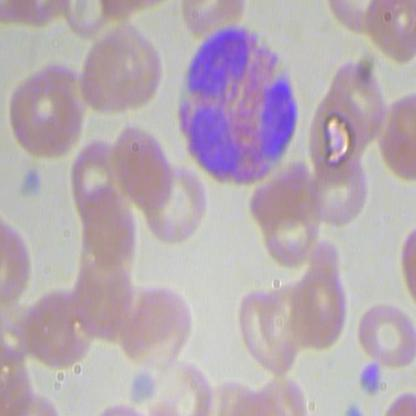Platelets: (18, 165, 47, 205), (354, 362, 385, 393)
RBC: (75, 22, 165, 124), (7, 63, 83, 164), (304, 84, 370, 188), (230, 286, 298, 379), (108, 121, 175, 211), (289, 259, 350, 354), (139, 165, 209, 245), (305, 153, 370, 233), (356, 292, 415, 372)
WBC: (170, 15, 304, 192)
